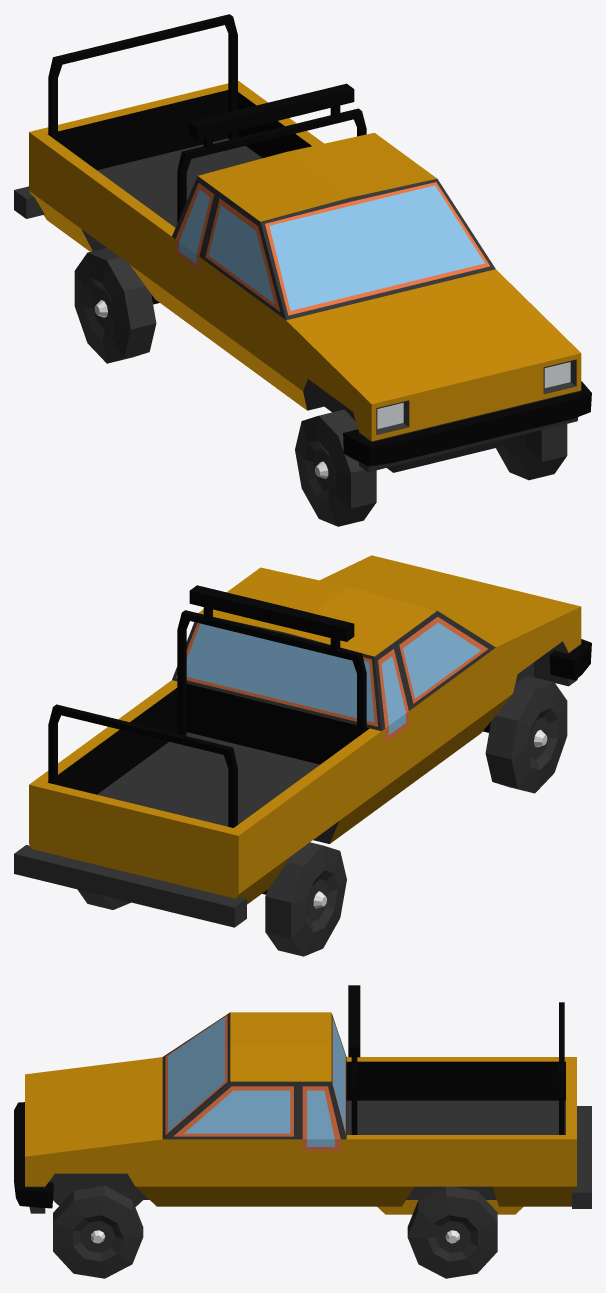
File: Car.fbx
3 renders of one model, top to bottom at view 1: azimuth 30°, elevation 25°; view 2: azimuth 150°, elevation 25°; view 3: azimuth 270°, elevation 25°, orthographic. The views are drawn at different scales.
Visible parts, largest first — view 1: car-baywatch-base, car-baywatch-wheel_BR, car-baywatch-wheel_FR, car-baywatch-wheel_FL; view 2: car-baywatch-base, car-baywatch-wheel_FR, car-baywatch-wheel_BR; view 3: car-baywatch-base, car-baywatch-wheel_FL, car-baywatch-wheel_BL.
Boxes of the visible parts, x1,y1,x2,y2 form: car-baywatch-base: (14,14,591,472); car-baywatch-wheel_BR: (74,248,156,363); car-baywatch-wheel_FR: (295,409,376,526); car-baywatch-wheel_FL: (496,424,567,480); car-baywatch-base: (14,555,591,927); car-baywatch-wheel_FR: (485,676,567,793); car-baywatch-wheel_BR: (265,842,346,956); car-baywatch-base: (14,985,591,1214); car-baywatch-wheel_FL: (53,1185,143,1278); car-baywatch-wheel_BL: (407,1186,497,1278).
Bounding box in the file's own units: 1.96 × 2.22 × 5.27.
